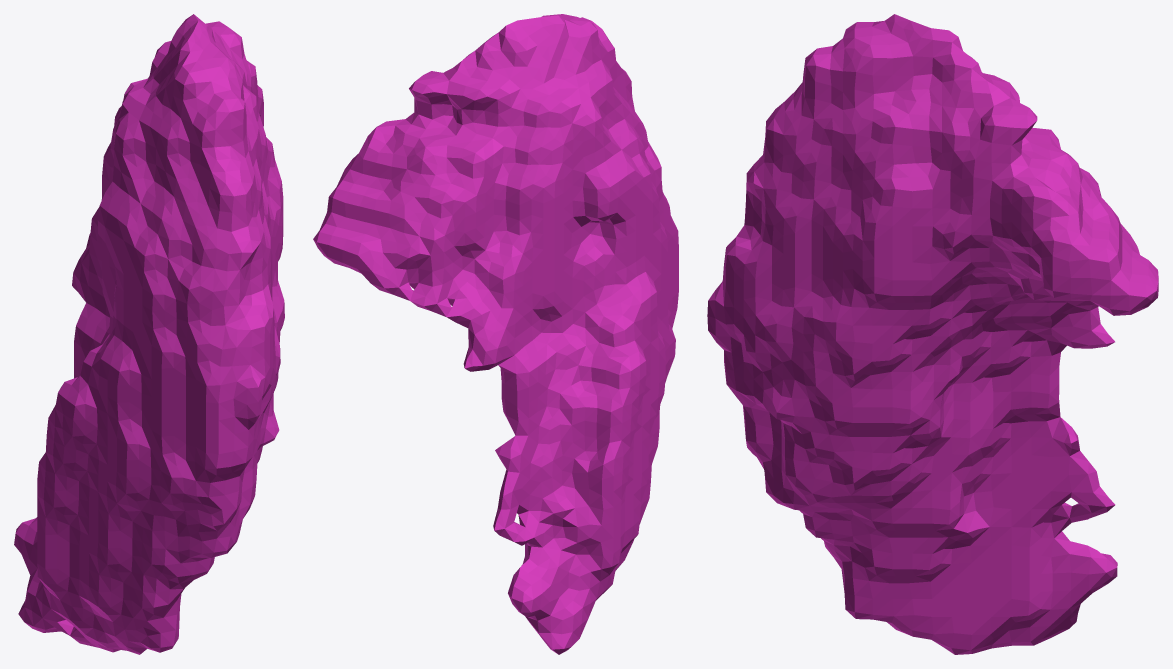
Rendered from aseg_012_Left-Putamen.glb.
3 views of the same model, side by side, from view 1: azimuth 30°, elevation 25°; view 2: azimuth 150°, elevation 25°; view 3: azimuth 270°, elevation 25° (orthographic). The views are drawn at different scales.
Bounding box in the file's own units: 16 × 36.73 × 22.75.
